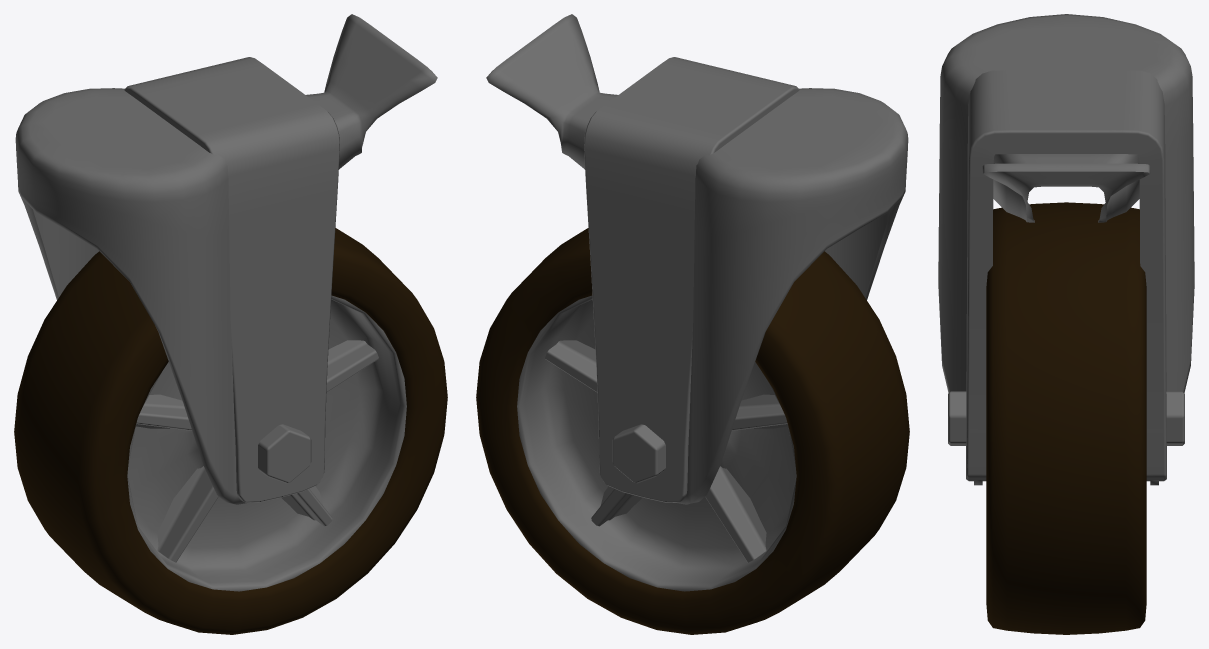
Rendered from caster_wheel_w_rigids_2-old.glb.
The picture shows the model from 3 angles, left to right: view 1: azimuth 30°, elevation 25°; view 2: azimuth 150°, elevation 25°; view 3: azimuth 270°, elevation 25°; orthographic projection.
Parts seen in each view (by area): view 1: wheel rubber, wheel arm, wheel_rigid_arm, wheel_face, lock_lever, wheel radials_3, pivot bolt, wheel radials_5, wheel radials_2, wheel radials_4; view 2: wheel rubber, wheel arm, wheel_rigid_arm, wheel_face, lock_lever, wheel radials_3, pivot bolt, wheel radials_5, wheel radials_2, wheel radials_4; view 3: wheel rubber, wheel_rigid_arm, wheel arm, lock_lever, pivot bolt.
Part boxes in pixels (x1,y1,x2,y2): wheel rubber: (14,228,447,634); wheel arm: (15,88,246,504); wheel_rigid_arm: (124,57,339,502); wheel_face: (127,295,406,591); lock_lever: (306,14,437,169); wheel radials_3: (157,466,218,562); pivot bolt: (258,424,311,483); wheel radials_5: (326,340,378,392); wheel radials_2: (136,394,192,430); wheel radials_4: (281,486,332,526); wheel rubber: (476,228,909,634); wheel arm: (677,88,908,504); wheel_rigid_arm: (584,57,799,502); wheel_face: (517,295,796,591); lock_lever: (486,14,617,169); wheel radials_3: (705,466,766,562); pivot bolt: (612,424,665,483); wheel radials_5: (545,340,597,392); wheel radials_2: (731,394,787,430); wheel radials_4: (591,486,642,526); wheel rubber: (986,202,1146,634); wheel_rigid_arm: (966,70,1166,481); wheel arm: (938,14,1194,485); lock_lever: (982,154,1150,222); pivot bolt: (948,391,1184,445).
Bounding box in the file's own units: 0.1582 × 0.2076 × 0.0908.
